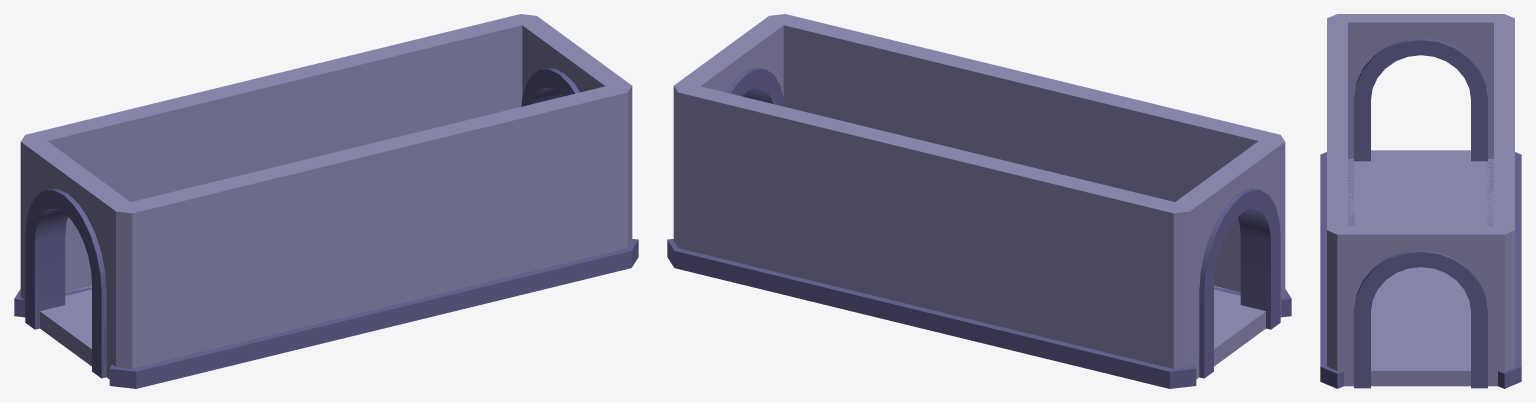
The model's file is corridor1.fbx.
3 renders of one model, left to right at view 1: azimuth 30°, elevation 25°; view 2: azimuth 150°, elevation 25°; view 3: azimuth 270°, elevation 25°, orthographic. The views are drawn at different scales.
Visible parts, largest first — view 1: mergedBlocks; view 2: mergedBlocks; view 3: mergedBlocks.
Boxes of the visible parts, x1,y1,x2,y2 form: mergedBlocks: (14,14,638,388); mergedBlocks: (667,14,1291,388); mergedBlocks: (1320,14,1521,388).
Size of the model in its own units: 32.05 by 10 by 12.05.
